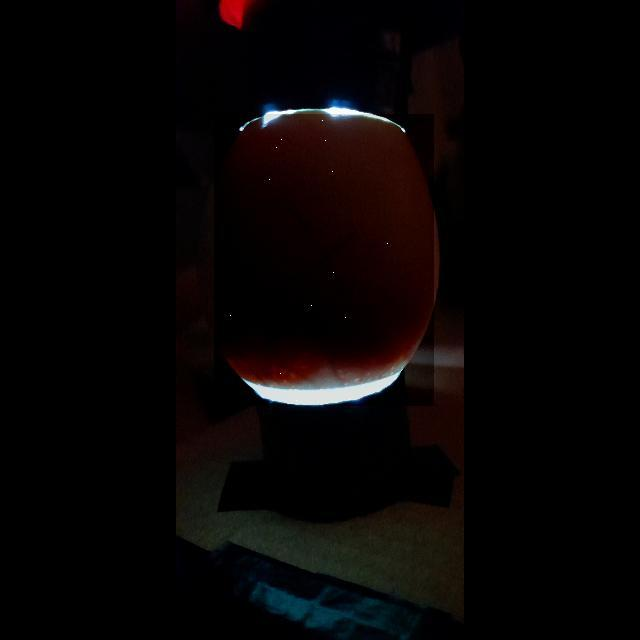Fertile: (214, 114, 434, 406)
